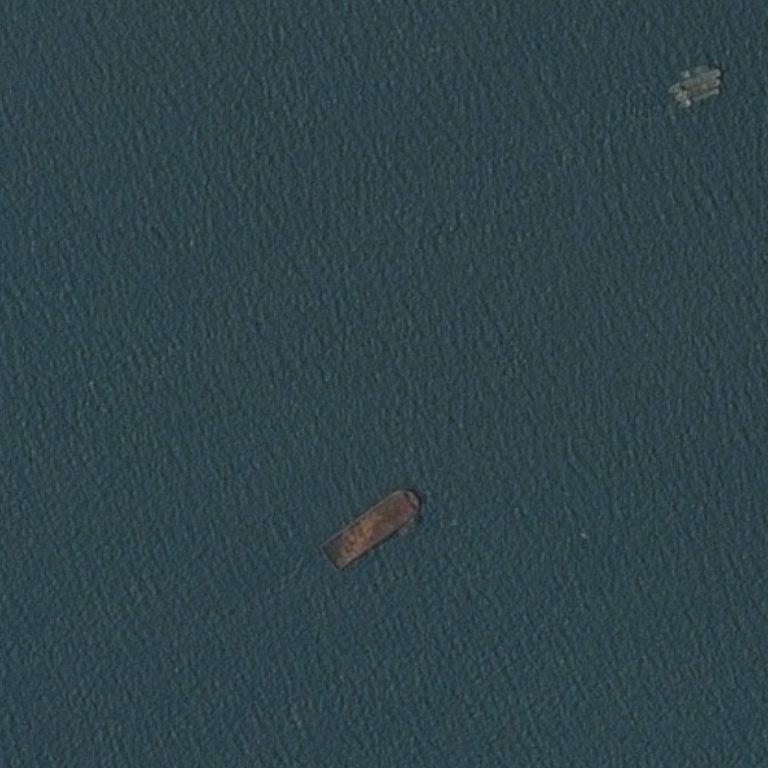ship: (666, 0, 722, 18), (356, 527, 385, 534), (406, 490, 420, 502), (303, 541, 312, 551), (334, 564, 343, 572), (717, 69, 721, 74), (668, 88, 671, 90), (669, 92, 674, 93)
